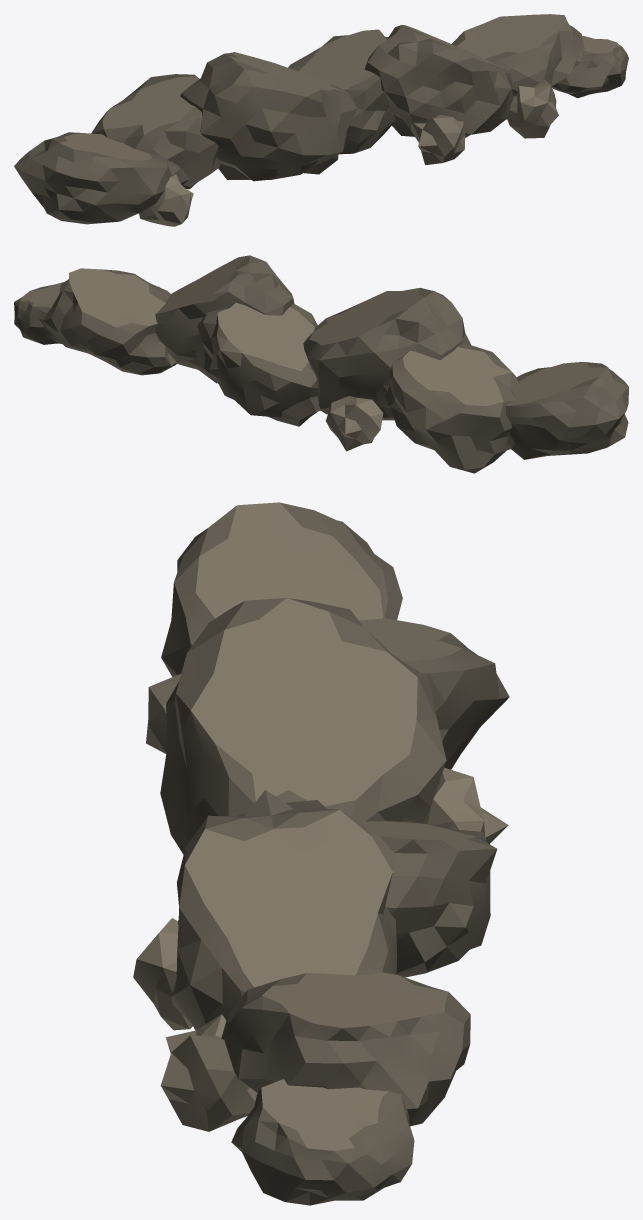
File: rubble_berm_lod0.glb
3 renders of one model, top to bottom at view 1: azimuth 30°, elevation 25°; view 2: azimuth 150°, elevation 25°; view 3: azimuth 270°, elevation 25°, orthographic. The views are drawn at different scales.
Visible parts, largest first — view 1: LOD0_Stone, LOD0_Stone_cut; view 2: LOD0_Stone, LOD0_Stone_cut; view 3: LOD0_Stone_cut, LOD0_Stone.
Part boxes in pixels (<box>): LOD0_Stone: <box>14,22,628,224</box>; LOD0_Stone_cut: <box>59,14,621,226</box>; LOD0_Stone: <box>14,255,628,473</box>; LOD0_Stone_cut: <box>20,255,607,451</box>; LOD0_Stone_cut: <box>133,502,508,1150</box>; LOD0_Stone: <box>160,502,509,1205</box>.
Size of the model in its own units: 5.74 by 1.2 by 1.55.
